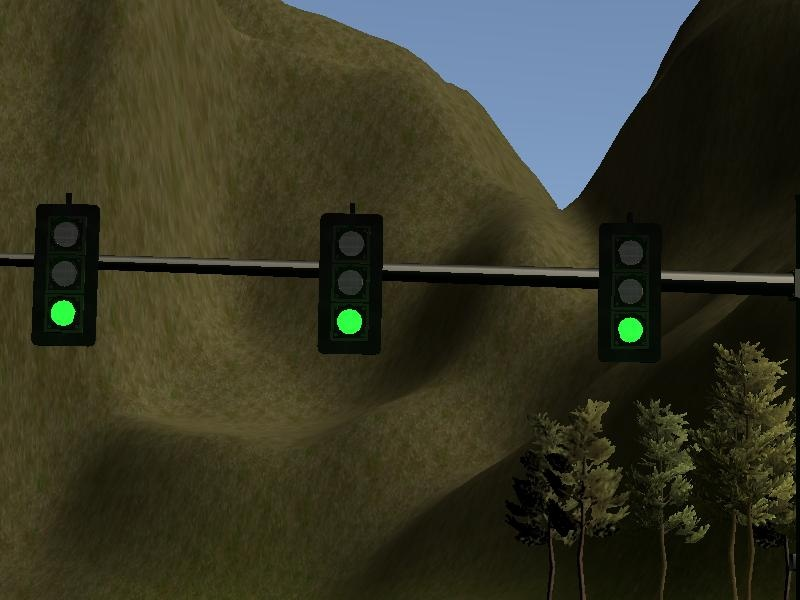traffic_light_green: (1, 196, 704, 364)
